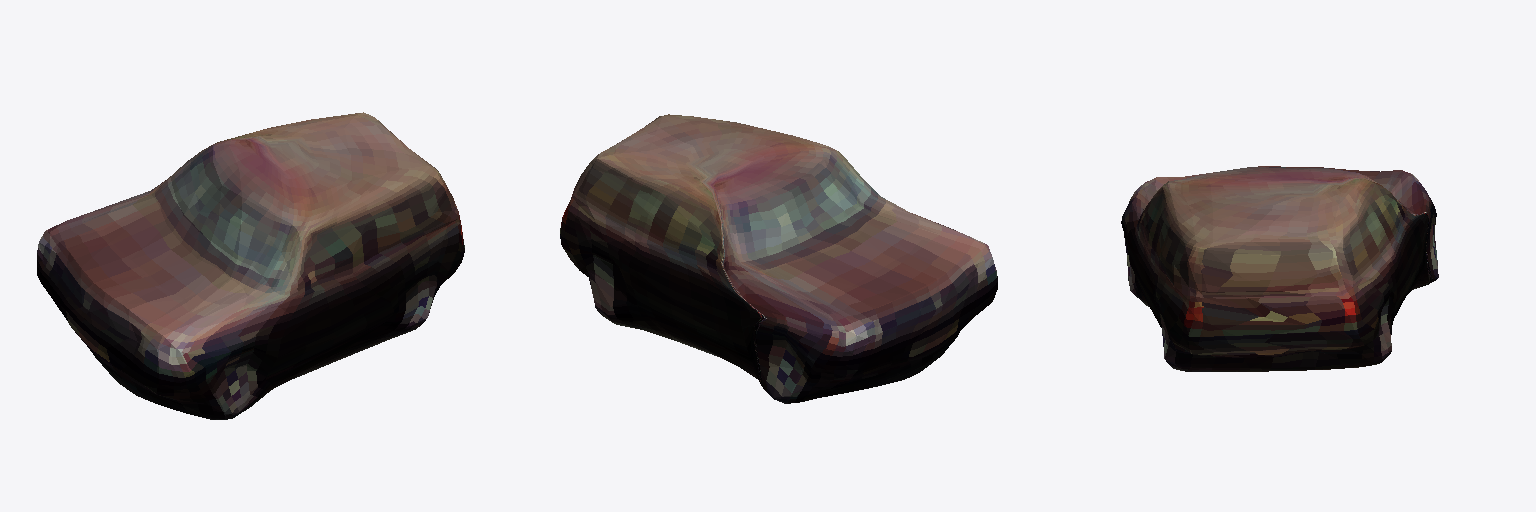
The picture shows the model from 3 angles: view 1: azimuth 30°, elevation 25°; view 2: azimuth 150°, elevation 25°; view 3: azimuth 270°, elevation 25°; orthographic projection.
Bounding box in the file's own units: 1 × 0.5072 × 0.7994.
1 materials, 1 textured.